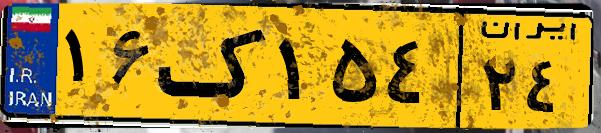1: (270, 28, 330, 110), (57, 26, 110, 100)
2: (475, 38, 525, 113)
4: (385, 28, 445, 110), (525, 38, 570, 115)
5: (330, 28, 385, 110)
6: (110, 28, 158, 98)
ک: (158, 12, 270, 120)
